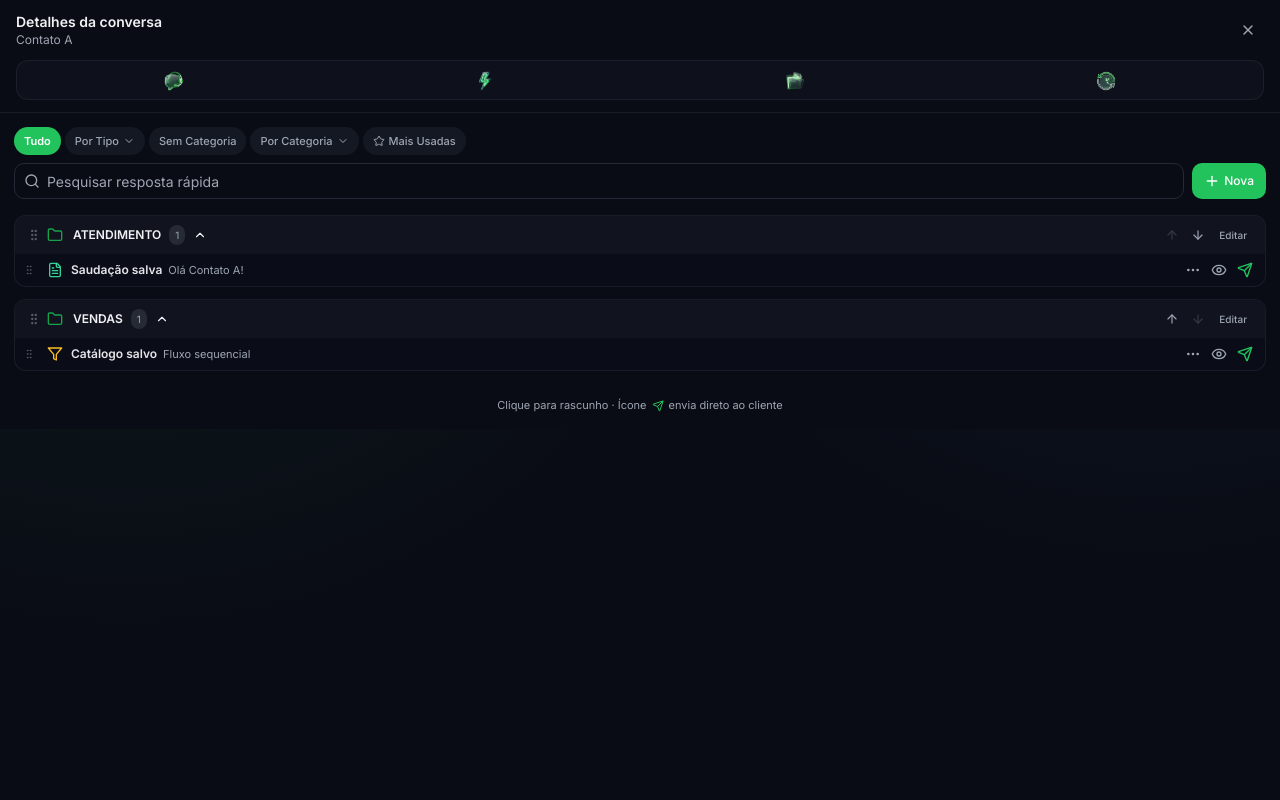
Test case: Painel do Inbox › mostra todas as etapas e envia só após confirmação
Later steps or results of the test are not shown.
Click the button "Catálogo salvo Fluxo sequencial": (114, 354) [43, 342, 1175, 366]
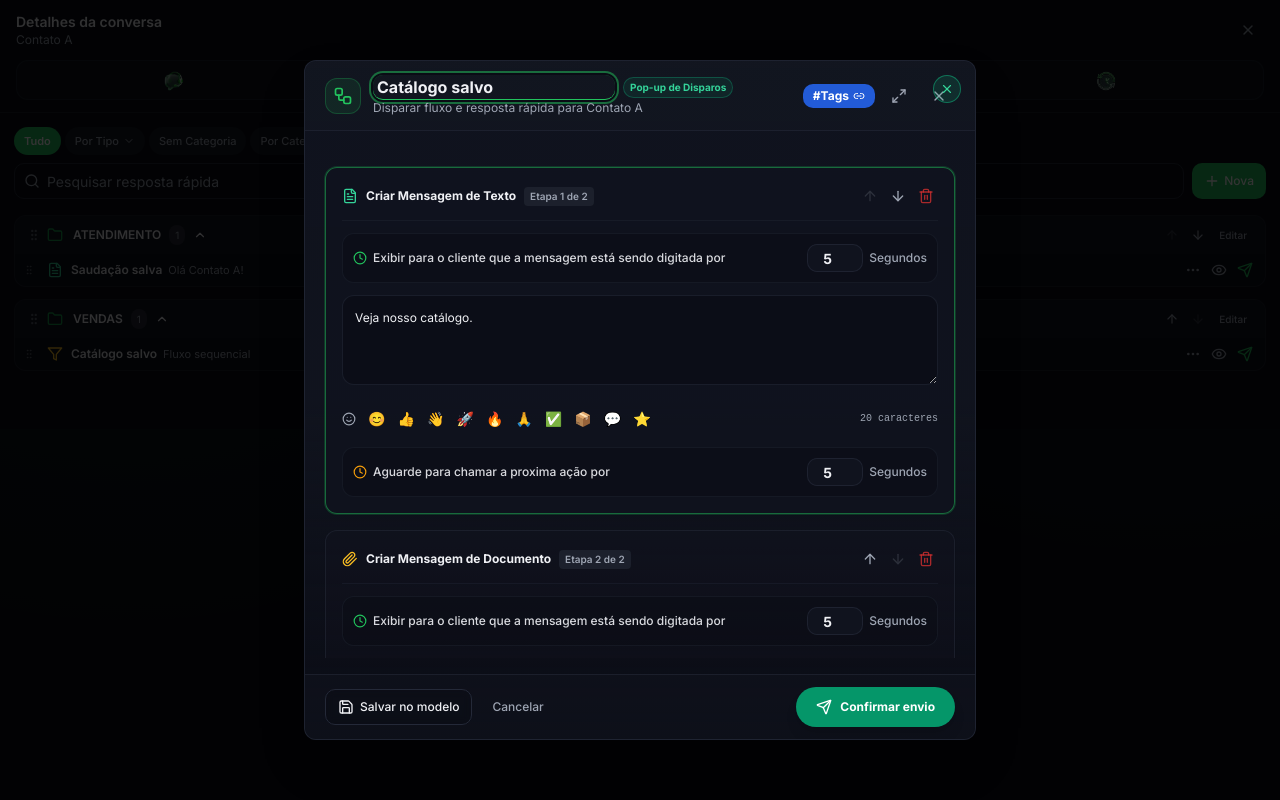
Result: the dialog is shown at [304, 60, 976, 740]
